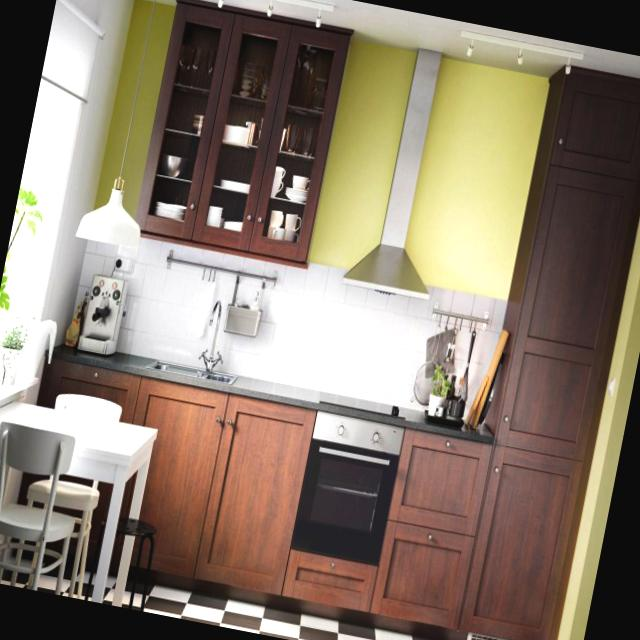obstacle: (0, 376, 180, 611)
